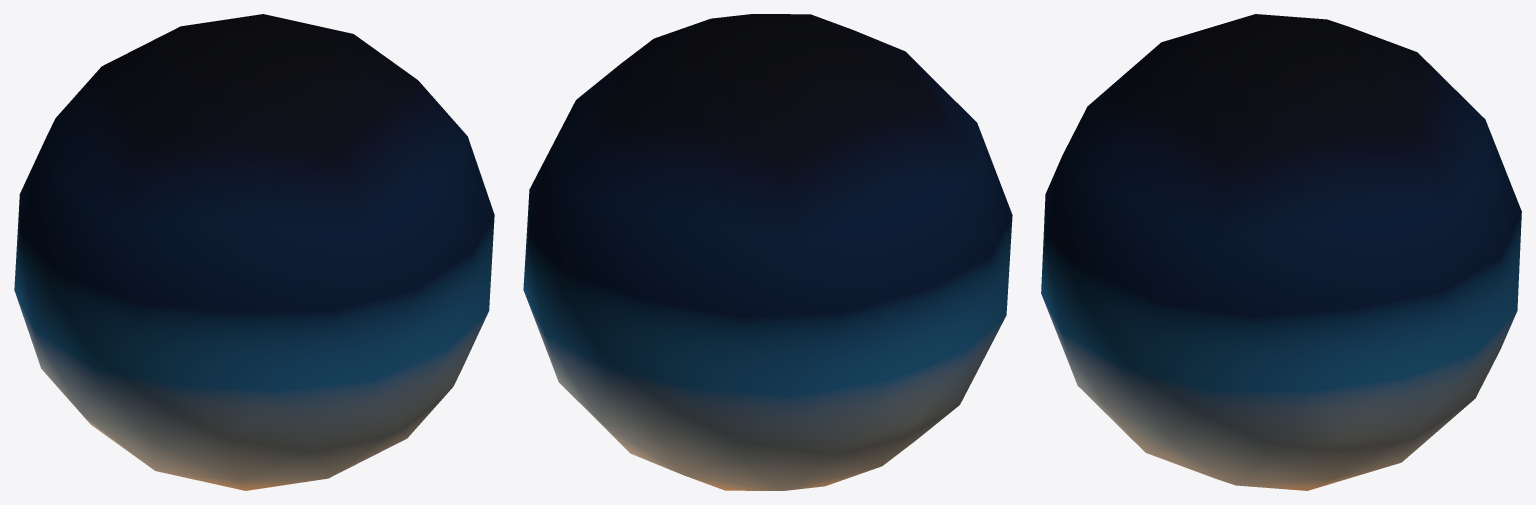
Rendered from SkyDome16.dae.
The picture shows the model from 3 angles, left to right: view 1: azimuth 30°, elevation 25°; view 2: azimuth 150°, elevation 25°; view 3: azimuth 270°, elevation 25°; orthographic projection.
Parts seen in each view (by area): view 1: F3:GeoDome1-0; view 2: F3:GeoDome1-0; view 3: F3:GeoDome1-0.
Part boxes in pixels (box(x1,y1,x2,y2)): F3:GeoDome1-0: box(14, 14, 494, 490); F3:GeoDome1-0: box(523, 14, 1012, 490); F3:GeoDome1-0: box(1041, 14, 1521, 490).
Size of the model in its own units: 25 by 25 by 25.
